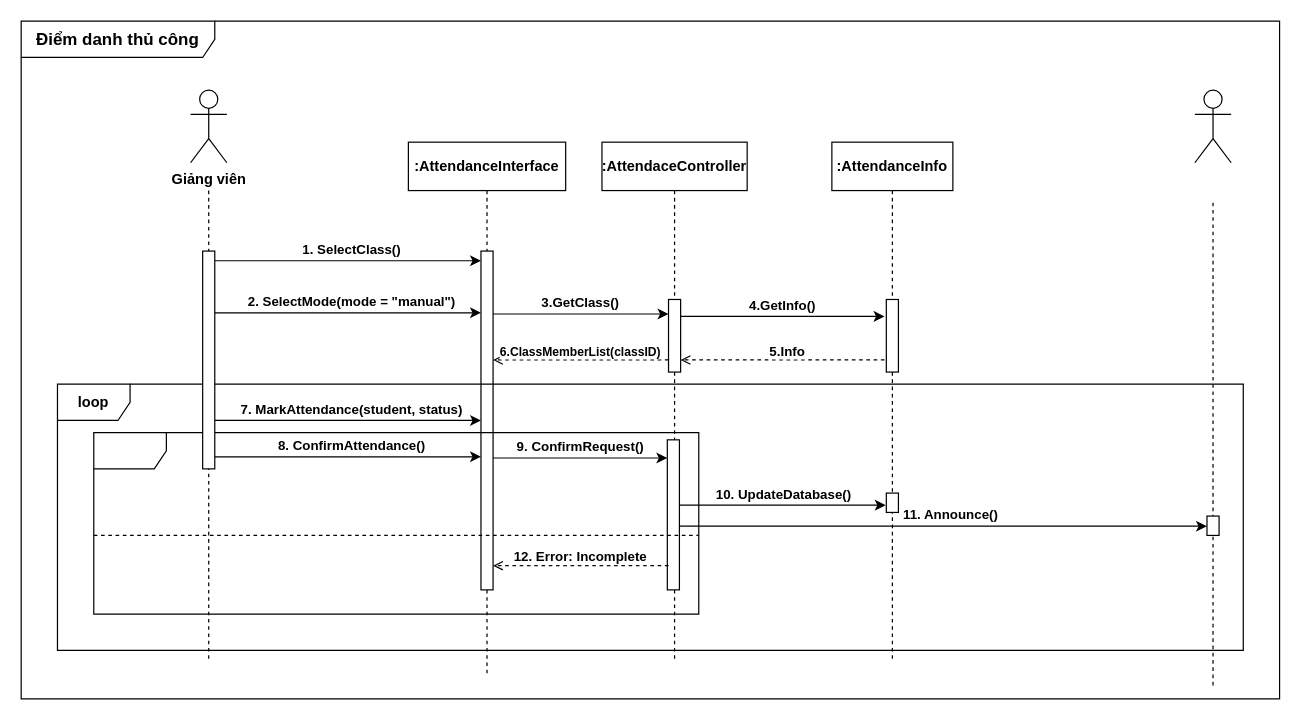
The diagram is 1301 pixels wide and 720 high, and some of its shapes have lost their labels. The centre of each missing label's shape, as x and y in pixels:
"alt" goes at [396,522].
"Sinh viên" goes at [1212,126].
